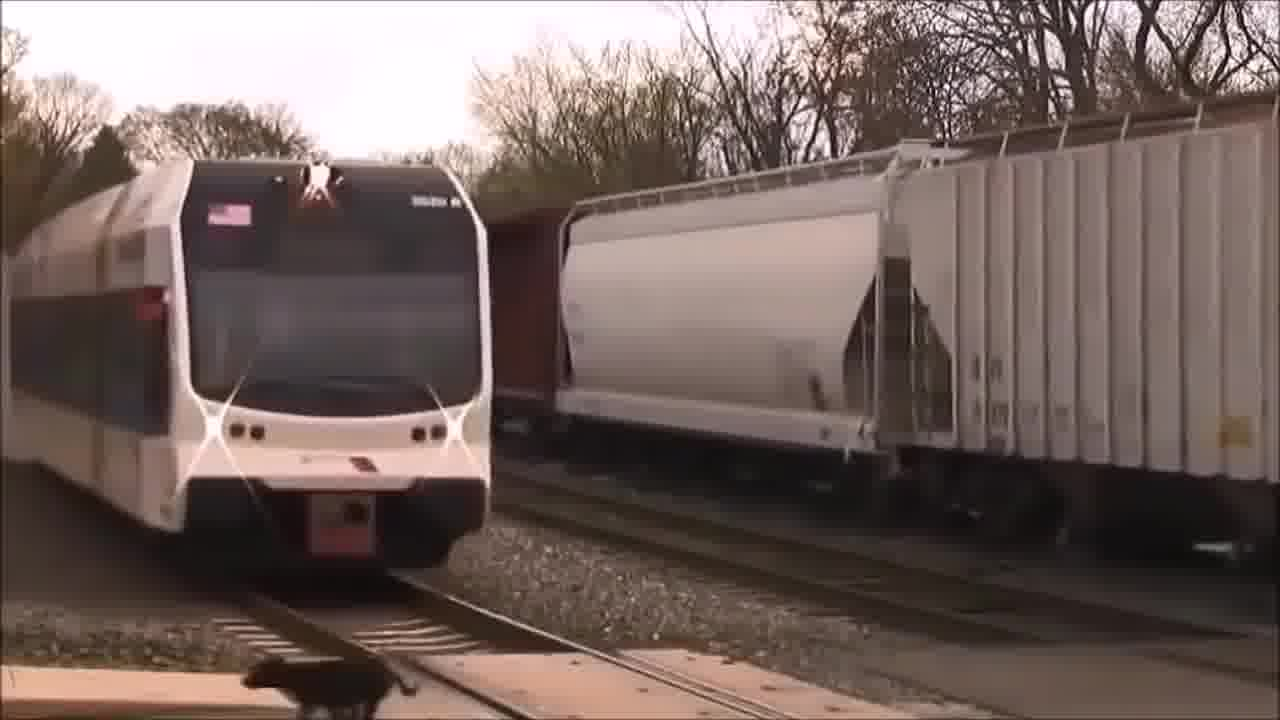crossing railway track: (203, 552, 851, 720)
